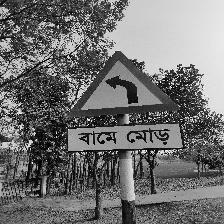Left-Turn: (65, 51, 184, 153)
